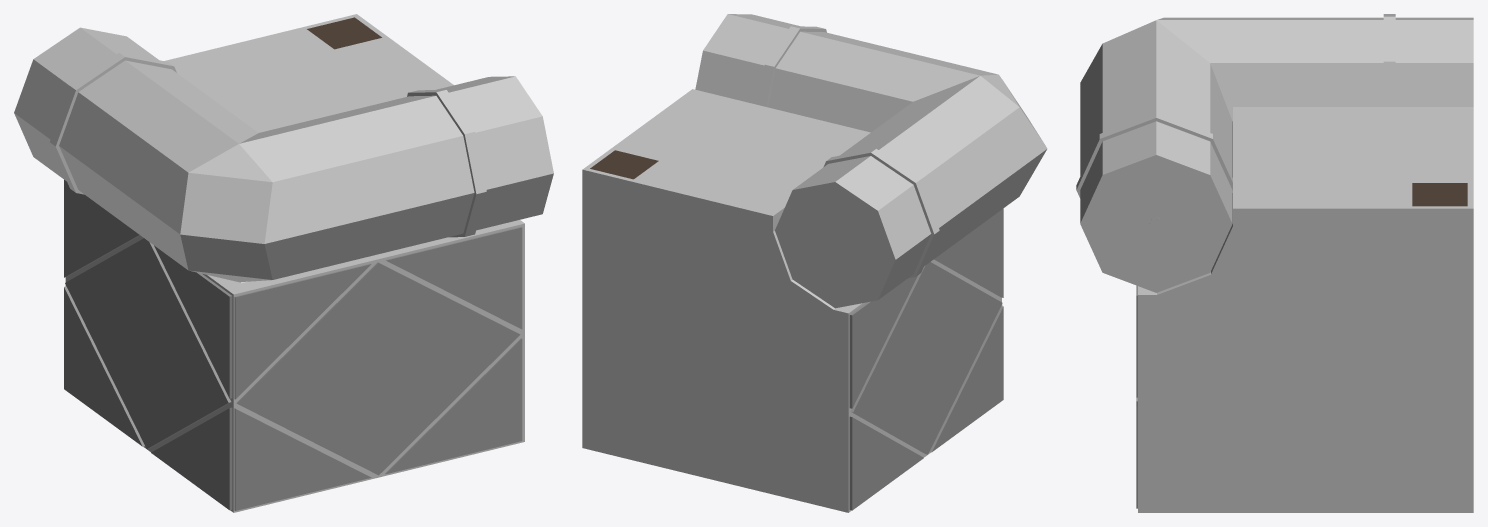
The model's file is Building_10_Corner.FBX.
3 renders of one model, left to right at view 1: azimuth 30°, elevation 25°; view 2: azimuth 150°, elevation 25°; view 3: azimuth 270°, elevation 25°, orthographic. The views are drawn at different scales.
Visible parts, largest first — view 1: Building_10_Corner_LOD0; view 2: Building_10_Corner_LOD0; view 3: Building_10_Corner_LOD0.
Part boxes in pixels (x1,y1,x2,y2): Building_10_Corner_LOD0: (14, 14, 553, 512); Building_10_Corner_LOD0: (582, 14, 1047, 512); Building_10_Corner_LOD0: (1076, 14, 1473, 512).
Size of what is drawn, in the model's own units: 214 by 214 by 213.
